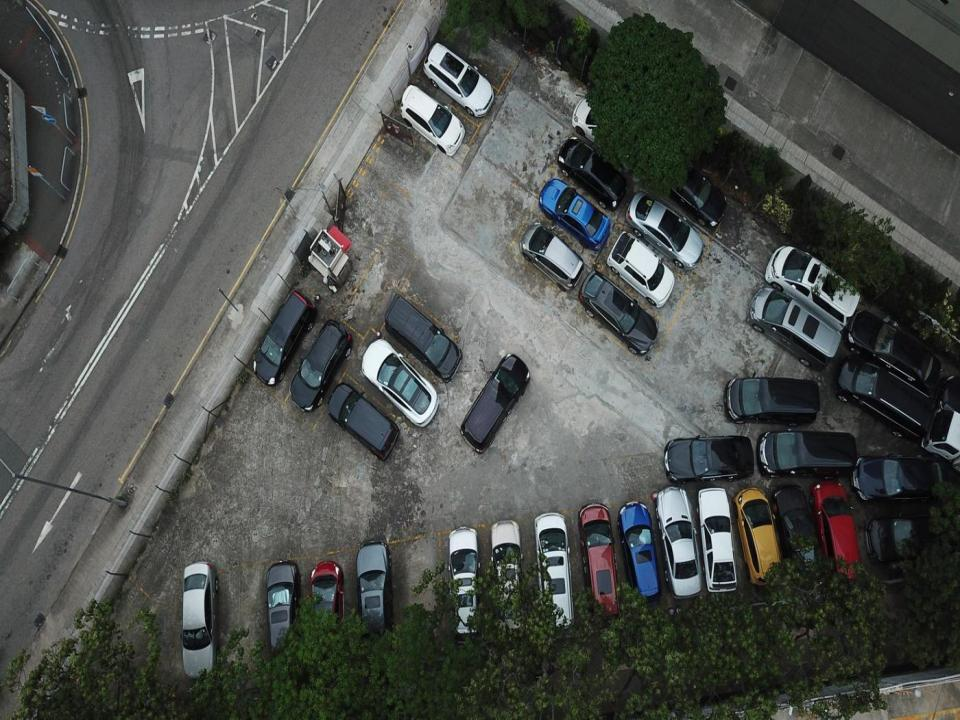car: (744, 274, 838, 372), (836, 353, 931, 442), (767, 243, 863, 328), (850, 310, 944, 396), (459, 352, 533, 454), (578, 271, 661, 359), (359, 337, 438, 429), (385, 293, 462, 381), (248, 289, 314, 387), (324, 379, 399, 465), (654, 482, 704, 604), (422, 39, 496, 121), (287, 316, 348, 415), (858, 448, 949, 514), (575, 496, 622, 623), (770, 479, 823, 591), (554, 130, 628, 210), (813, 476, 862, 596), (631, 189, 702, 271), (655, 141, 723, 226), (868, 506, 947, 578), (733, 482, 784, 591), (695, 480, 742, 598), (396, 80, 468, 156), (660, 429, 757, 485), (533, 509, 573, 643), (616, 497, 662, 613), (723, 374, 820, 429), (352, 539, 394, 663), (607, 230, 672, 310), (571, 91, 643, 163), (483, 517, 524, 642), (760, 428, 860, 479), (177, 558, 218, 680), (258, 558, 302, 668), (521, 218, 582, 296), (306, 562, 345, 664), (448, 526, 480, 640)
